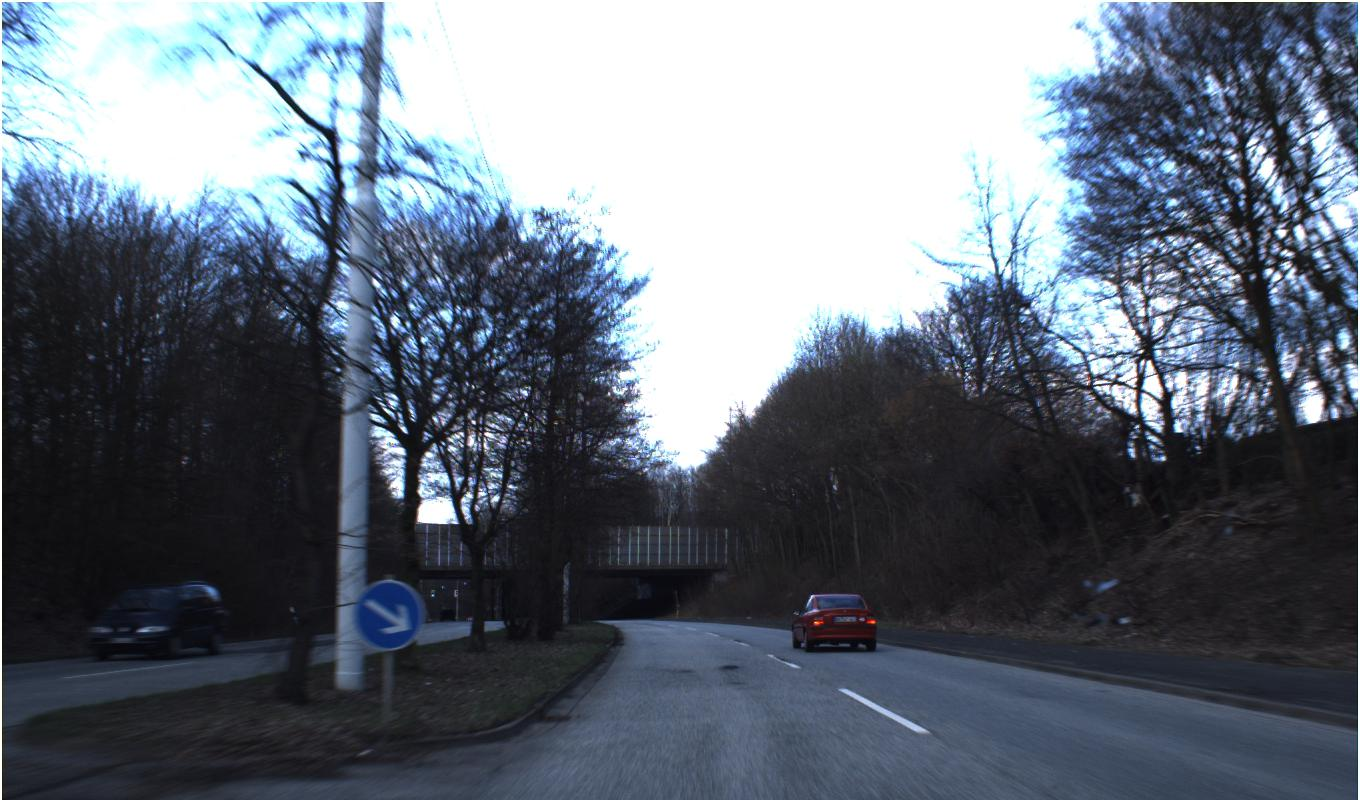mandatory: (354, 579, 423, 650)
